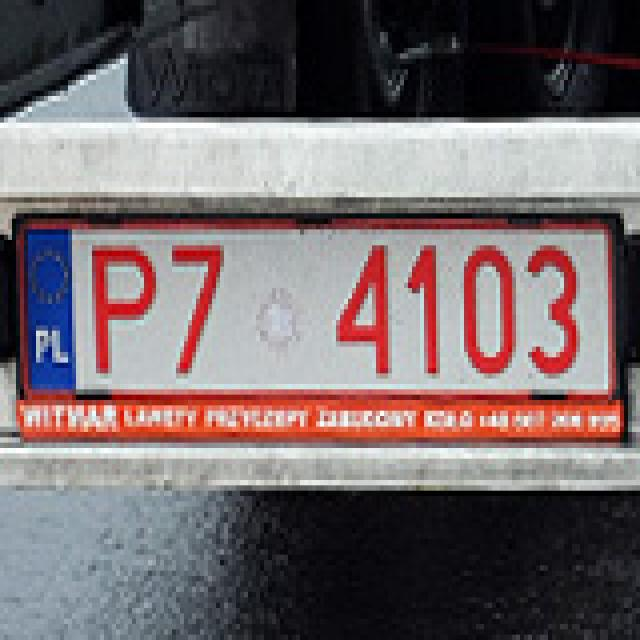pl_license_plate: (20, 224, 608, 389)
